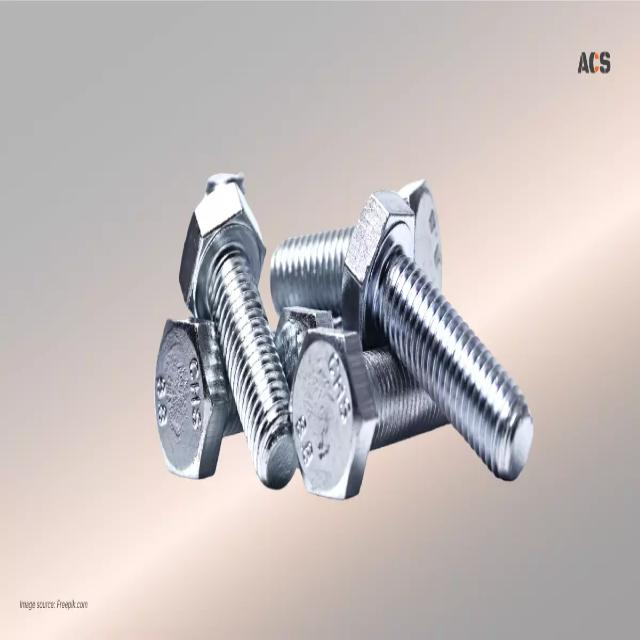Logam: (171, 152, 357, 522), (340, 192, 566, 479)
